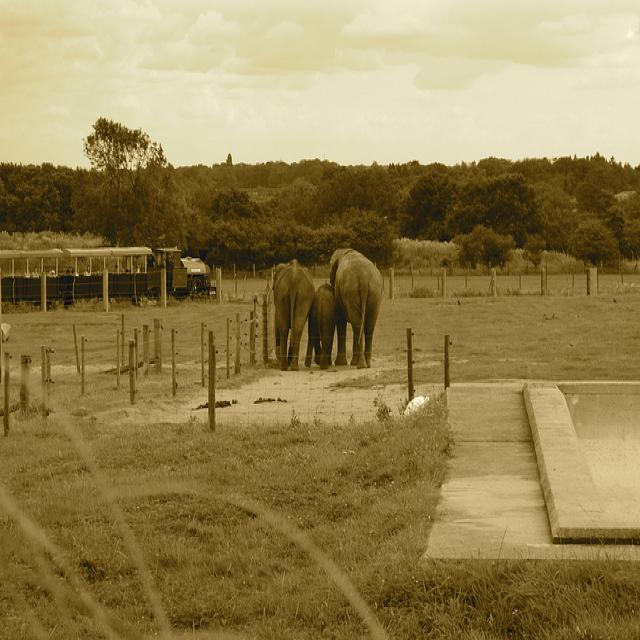elephant: (329, 246, 383, 370), (273, 258, 315, 371), (304, 280, 337, 371)
train: (0, 246, 210, 303)
